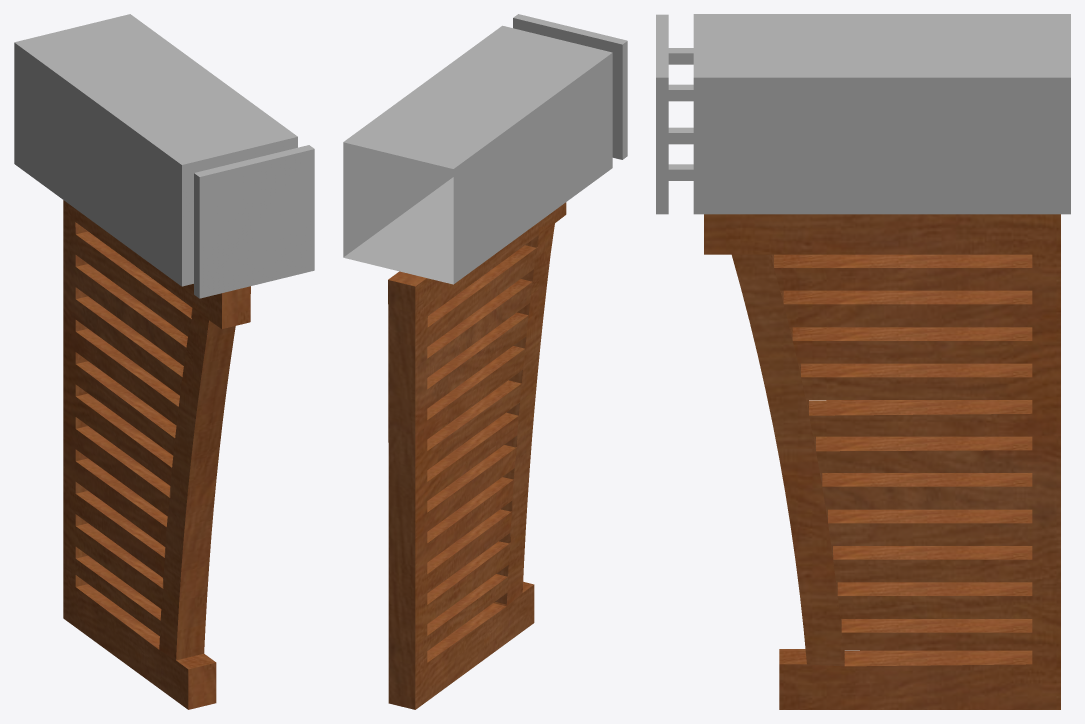
Rendered from GATE 1.fbx.
The picture shows the model from 3 angles, left to right: view 1: azimuth 30°, elevation 25°; view 2: azimuth 150°, elevation 25°; view 3: azimuth 270°, elevation 25°; orthographic projection. The views are drawn at different scales.
Visible parts, largest first — view 1: ID382, ID249; view 2: ID382, ID249; view 3: ID382, ID249.
Boxes of the visible parts, <box> form: ID382: <box>63,200,250,709</box>; ID249: <box>14,14,314,298</box>; ID382: <box>388,202,566,709</box>; ID249: <box>343,14,627,284</box>; ID382: <box>704,214,1060,709</box>; ID249: <box>656,14,1070,214</box>.
Bounding box in the file's own units: 23.62 × 113 × 64.96.
3 materials, 2 textured.
